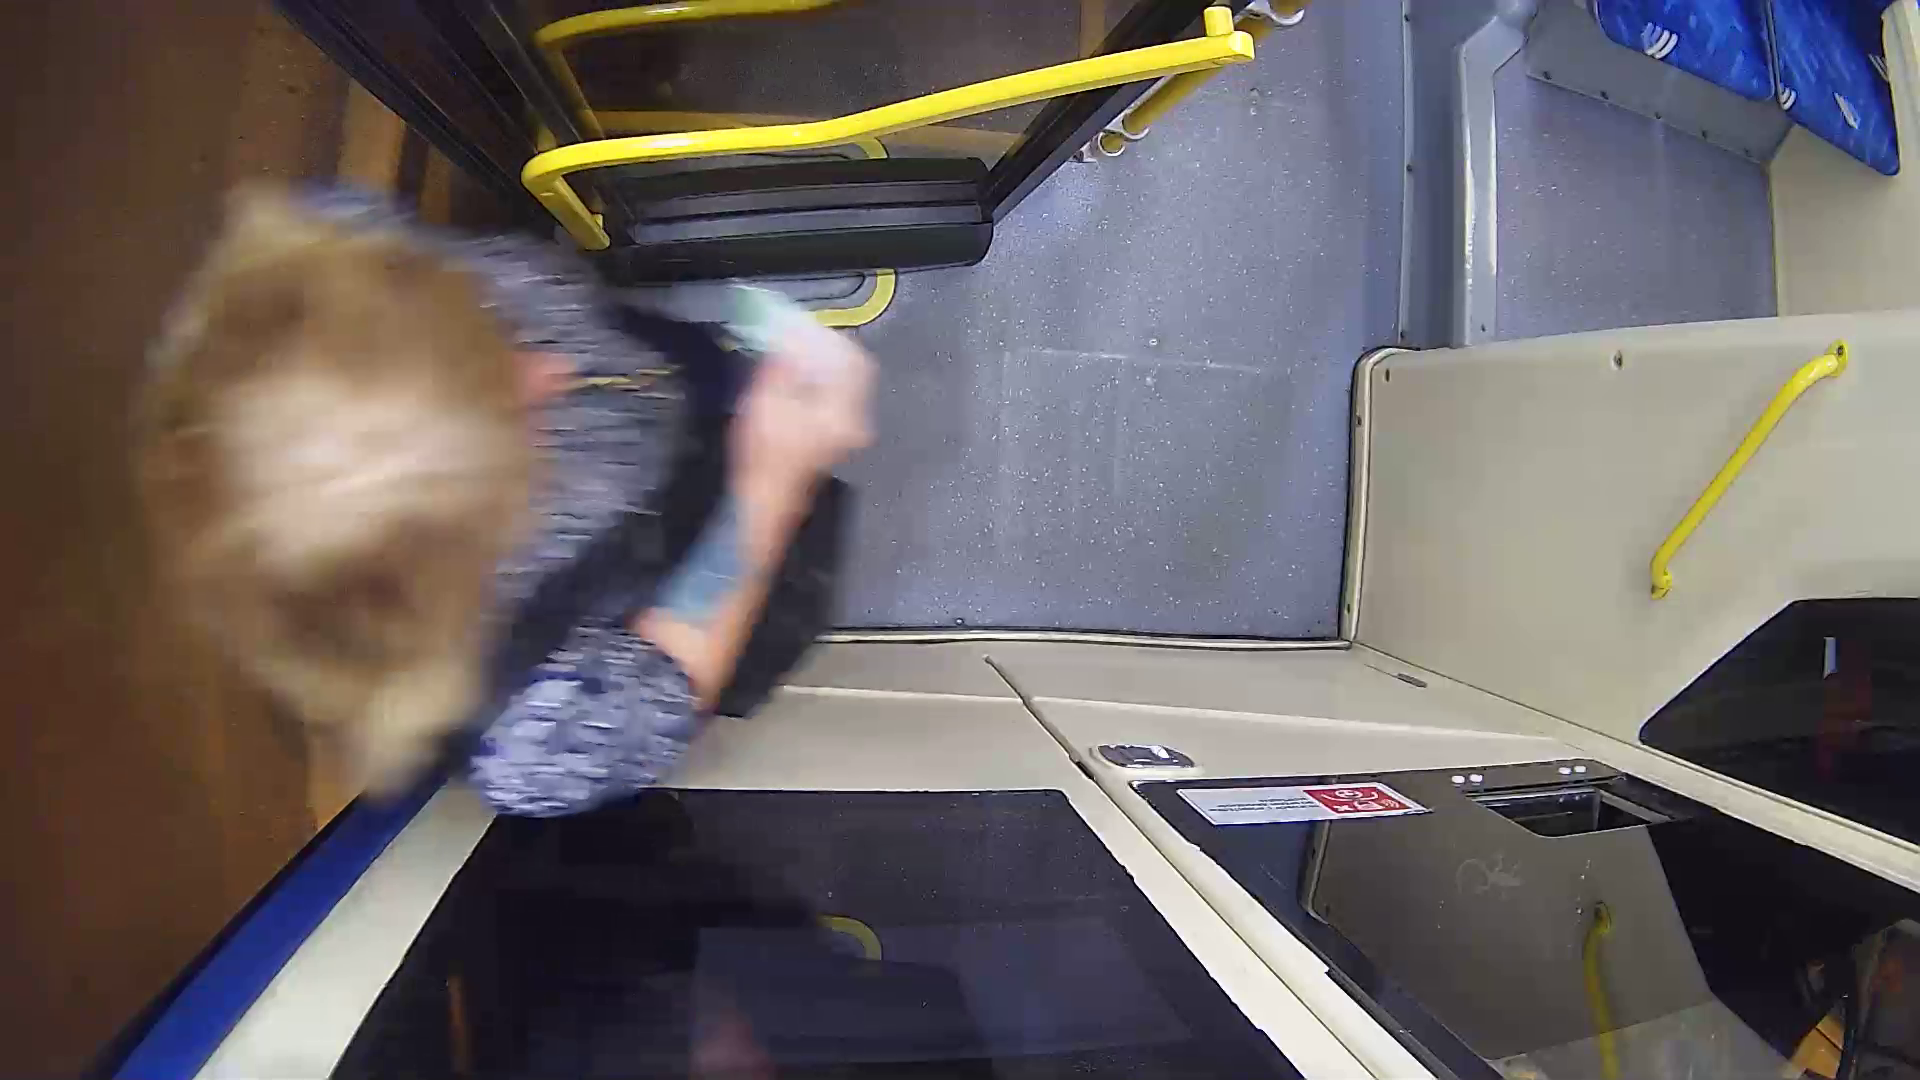person: (143, 178, 978, 828)
